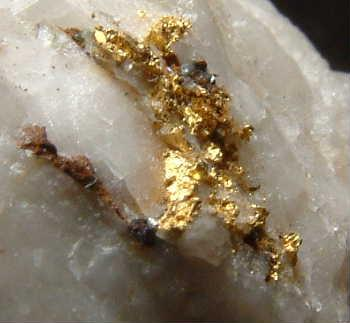gold: (70, 16, 303, 284)
